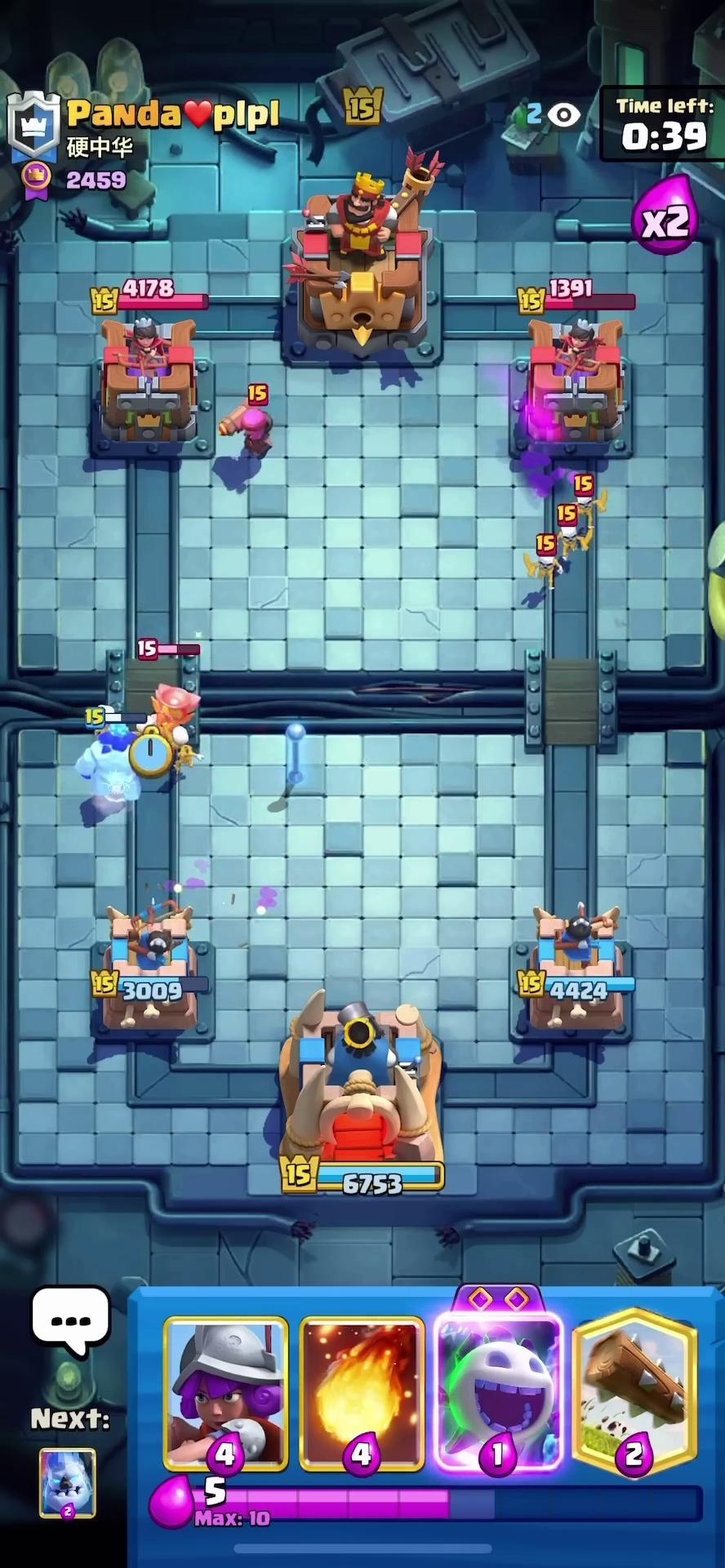ice_golem: (86, 708, 147, 815)
skeletons: (159, 721, 208, 766)
